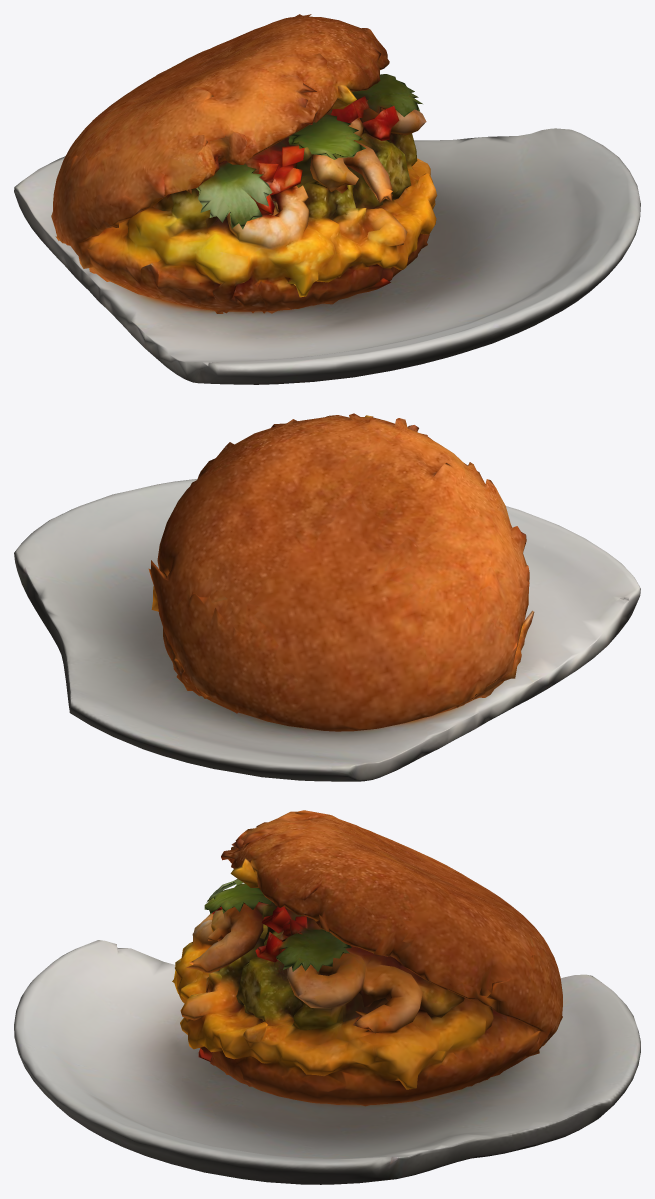
Rendered from acaraje.glb.
3 renders of one model, top to bottom at view 1: azimuth 30°, elevation 25°; view 2: azimuth 150°, elevation 25°; view 3: azimuth 270°, elevation 25°, orthographic.
Visible parts, largest first — view 1: tripo_node_096ee761-844b-44b9-b0da-e433c651e3b2; view 2: tripo_node_096ee761-844b-44b9-b0da-e433c651e3b2; view 3: tripo_node_096ee761-844b-44b9-b0da-e433c651e3b2.
Boxes of the visible parts, box(x1,y1,x2,y2) form: tripo_node_096ee761-844b-44b9-b0da-e433c651e3b2: box(14, 14, 640, 384); tripo_node_096ee761-844b-44b9-b0da-e433c651e3b2: box(14, 413, 640, 781); tripo_node_096ee761-844b-44b9-b0da-e433c651e3b2: box(14, 810, 640, 1184).
Bounding box in the file's own units: 0.9341 × 0.4223 × 1.
Materials: 1 (1 with a texture image).
